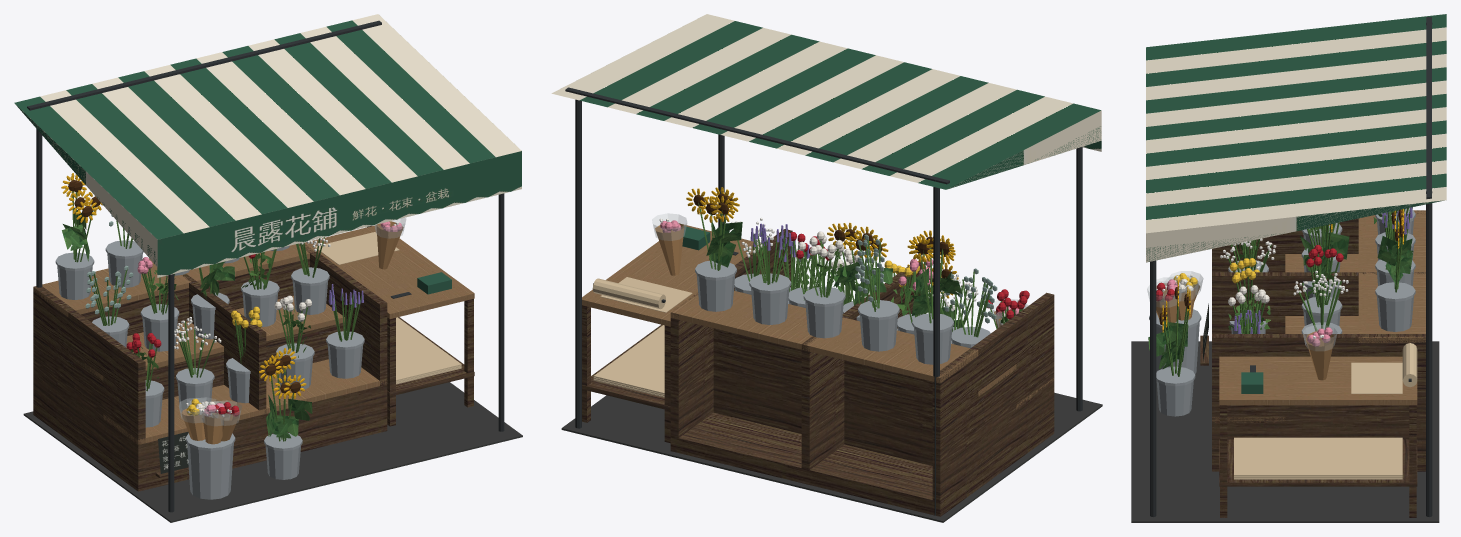
File: gg_flower_stall.glb
The picture shows the model from 3 angles, left to right: view 1: azimuth 30°, elevation 25°; view 2: azimuth 150°, elevation 25°; view 3: azimuth 270°, elevation 25°; orthographic projection. The views are drawn at different scales.
Parts seen in each view (by area): view 1: ggf_canvas, ggf_wood_dk, ggf_zinc, ggf_mat, ggf_wood, ggf_valance, ggf_steel, ggf_stem, ggf_paper, ggf_broad, ggf_kraft, ggf_sun_p (+8 smaller); view 2: ggf_wood_dk, ggf_canvas, ggf_wood, ggf_zinc, ggf_steel, ggf_mat, ggf_stem, ggf_paper, ggf_broad, ggf_sun_p, ggf_euc, ggf_sun_c (+6 smaller); view 3: ggf_canvas, ggf_wood_dk, ggf_mat, ggf_wood, ggf_paper, ggf_zinc, ggf_steel, ggf_stem, ggf_broad, ggf_kraft, ggf_cello, ggf_gyp (+9 smaller).
Boxes of the visible parts, <box> form: ggf_canvas: <box>14,14,521,266</box>; ggf_wood_dk: <box>33,243,474,491</box>; ggf_zinc: <box>55,240,364,499</box>; ggf_mat: <box>23,382,522,522</box>; ggf_wood: <box>33,225,474,444</box>; ggf_valance: <box>157,151,521,277</box>; ggf_steel: <box>27,20,504,512</box>; ggf_stem: <box>72,191,361,441</box>; ggf_paper: <box>315,232,461,384</box>; ggf_broad: <box>62,208,312,438</box>; ggf_kraft: <box>181,221,403,444</box>; ggf_sun_p: <box>61,173,306,398</box>; ggf_wood_dk: <box>582,229,1054,516</box>; ggf_canvas: <box>551,14,1101,189</box>; ggf_wood: <box>582,224,1053,409</box>; ggf_zinc: <box>695,260,990,364</box>; ggf_steel: <box>565,87,1082,515</box>; ggf_mat: <box>561,392,1102,522</box>; ggf_stem: <box>698,202,1023,337</box>; ggf_paper: <box>592,277,692,397</box>; ggf_broad: <box>706,222,962,327</box>; ggf_sun_p: <box>686,187,958,298</box>; ggf_euc: <box>855,234,997,323</box>; ggf_sun_c: <box>693,193,951,291</box>; ggf_canvas: <box>1146,14,1446,262</box>; ggf_wood_dk: <box>1200,210,1425,517</box>; ggf_mat: <box>1131,341,1439,522</box>; ggf_wood: <box>1212,210,1425,422</box>; ggf_paper: <box>1234,343,1417,479</box>; ggf_zinc: <box>1149,207,1415,416</box>; ggf_steel: <box>1150,17,1432,516</box>; ggf_stem: <box>1163,208,1410,376</box>; ggf_broad: <box>1148,232,1413,369</box>; ggf_kraft: <box>1156,283,1334,380</box>; ggf_cello: <box>1147,271,1337,350</box>; ggf_gyp: <box>1156,238,1348,338</box>.
Size of the model in its own units: 3 by 2.45 by 2.15.
27 materials, 7 textured.
